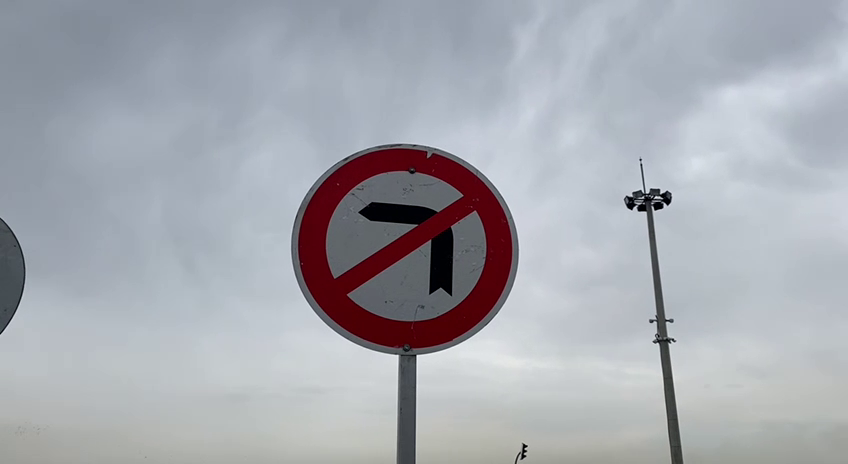noTurnLeft: (287, 138, 528, 361)
